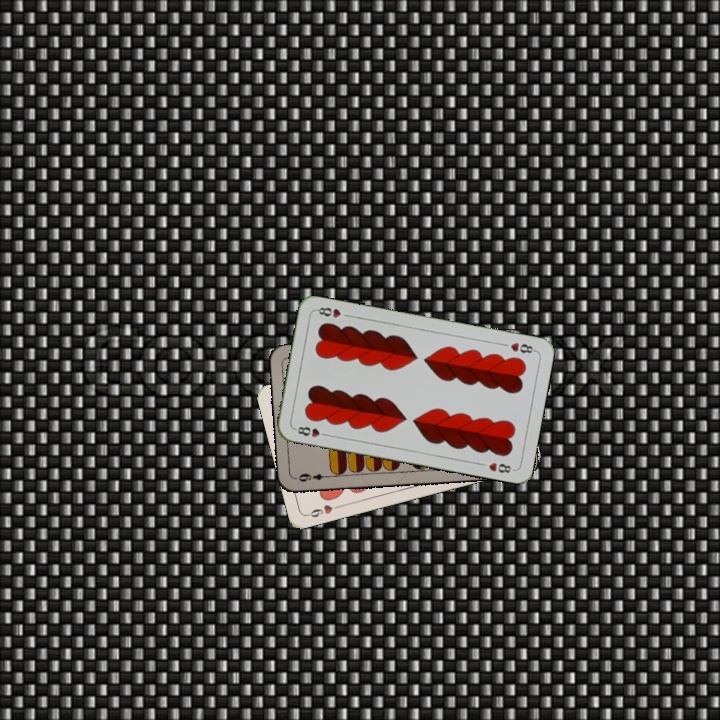E9: (294, 469, 333, 484)
H8: (291, 422, 331, 440), (506, 338, 538, 356)
H9: (303, 500, 343, 520)
